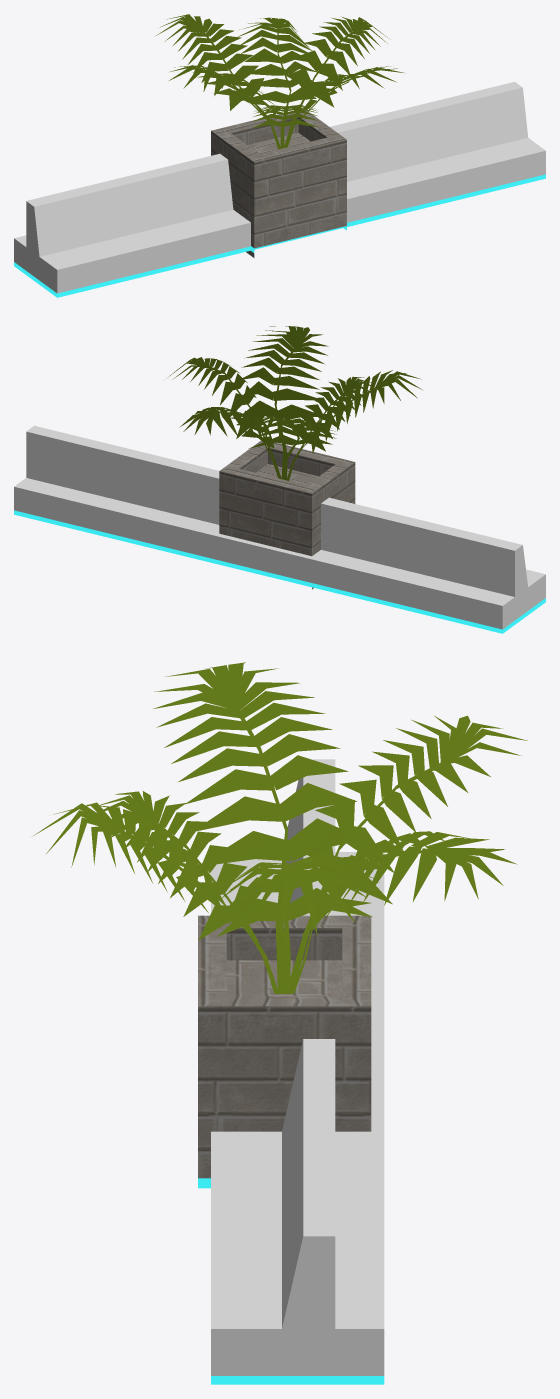
Rendered from sofa-3.glb.
The picture shows the model from 3 angles, top to bottom: view 1: azimuth 30°, elevation 25°; view 2: azimuth 150°, elevation 25°; view 3: azimuth 270°, elevation 25°; orthographic projection. The views are drawn at different scales.
Parts seen in each view (by area): view 1: sofa; view 2: sofa; view 3: sofa.
Part boxes in pixels (<box>): sofa: <box>14,14,545,297</box>; sofa: <box>14,326,545,633</box>; sofa: <box>32,662,527,1384</box>.
Size of what is drawn, in the model's own units: 8.12 by 3.13 by 3.59.
Materials: 4 (1 with a texture image).
